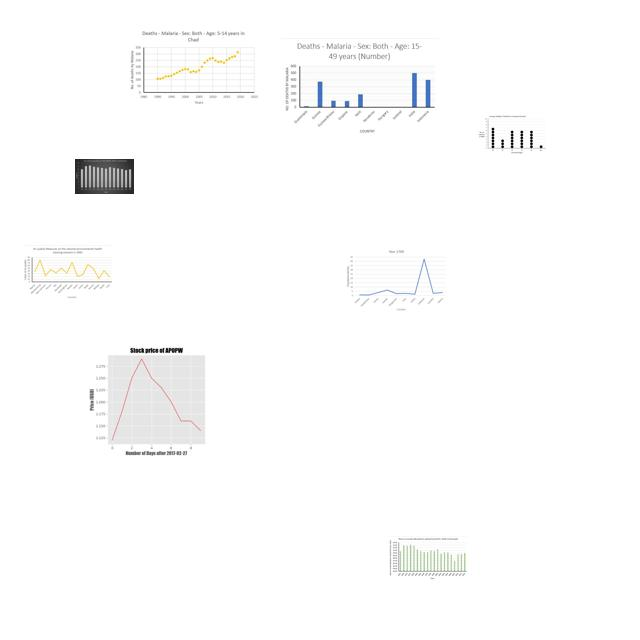Graph: (77, 341, 232, 457), (281, 38, 439, 138), (127, 29, 259, 105), (345, 249, 446, 312), (22, 245, 114, 301), (389, 536, 468, 581), (477, 114, 547, 155), (75, 159, 134, 194)
